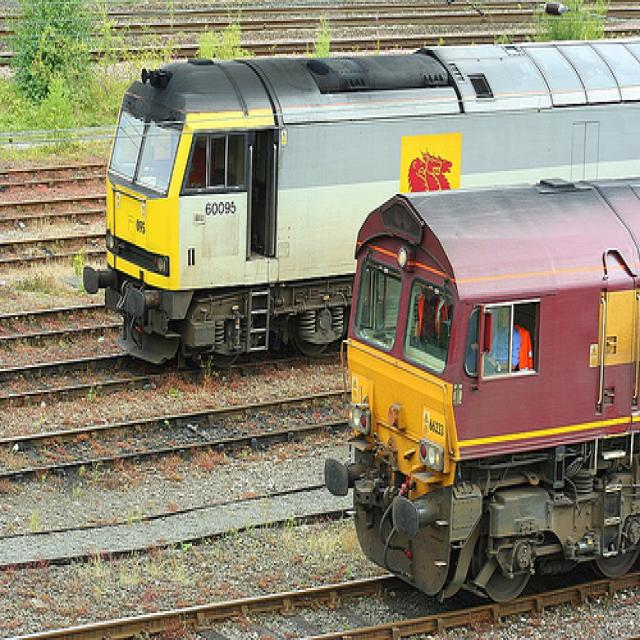locomotive: (80, 34, 640, 357), (323, 169, 640, 611)
